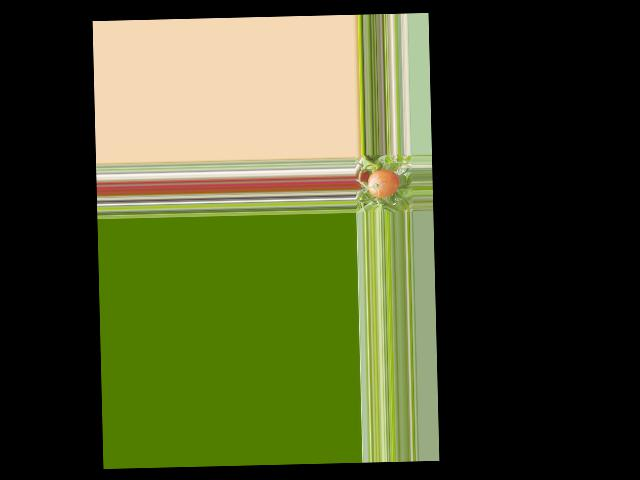tomato: (367, 169, 399, 198)
